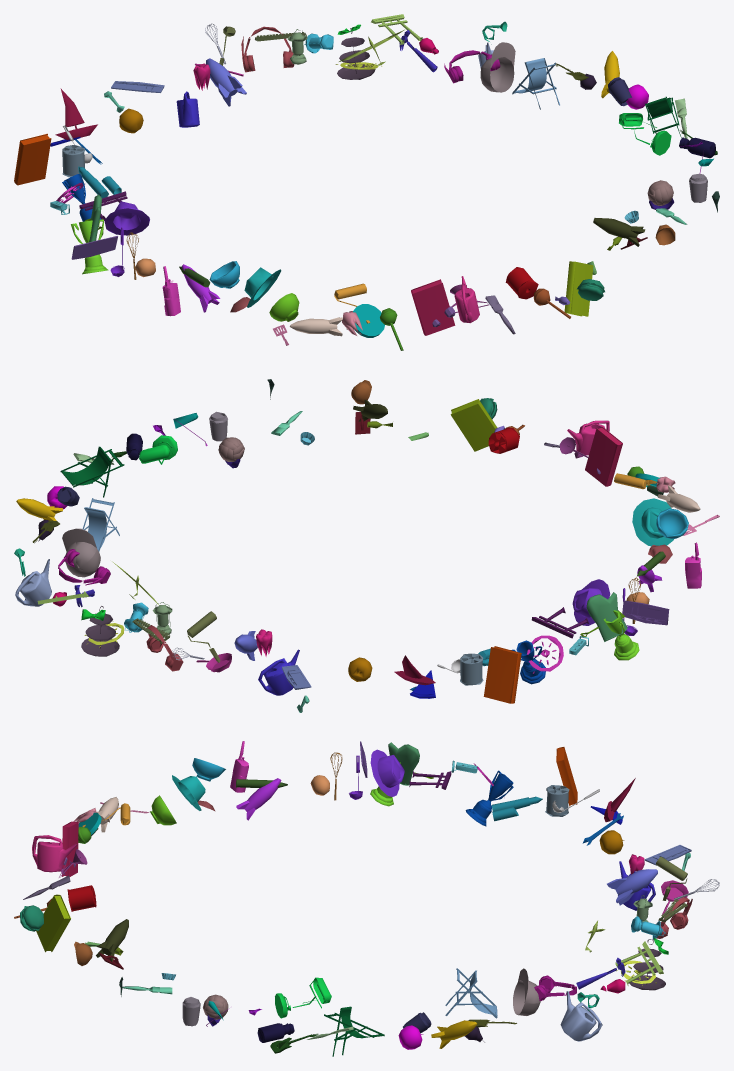
File: TestDebris100_10reduce_out_0728.fbx
The picture shows the model from 3 angles, top to bottom: view 1: azimuth 30°, elevation 25°; view 2: azimuth 150°, elevation 25°; view 3: azimuth 270°, elevation 25°; orthographic projection.
Parts seen in each view (by area): view 1: polyreduce2; view 2: polyreduce2; view 3: polyreduce2.
Boxes of the visible parts, x1,y1,x2,y2 form: polyreduce2: (14,14,719,350); polyreduce2: (14,379,719,712); polyreduce2: (14,741,719,1056).
Bounding box in the file's own units: 13.5 × 1.71 × 13.78.
